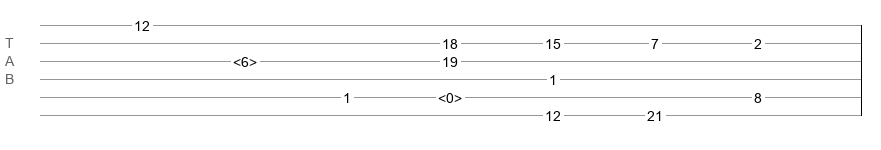1: (343, 90, 351, 100), (549, 72, 557, 82)
12: (134, 18, 150, 28), (545, 108, 561, 118)
15: (545, 36, 561, 46)
18: (442, 36, 458, 46)
19: (442, 54, 458, 64)
2: (754, 36, 762, 46)
21: (647, 108, 663, 118)
7: (651, 36, 659, 46)
8: (754, 90, 762, 100)
harmonic: (233, 54, 257, 64), (438, 90, 462, 100)
